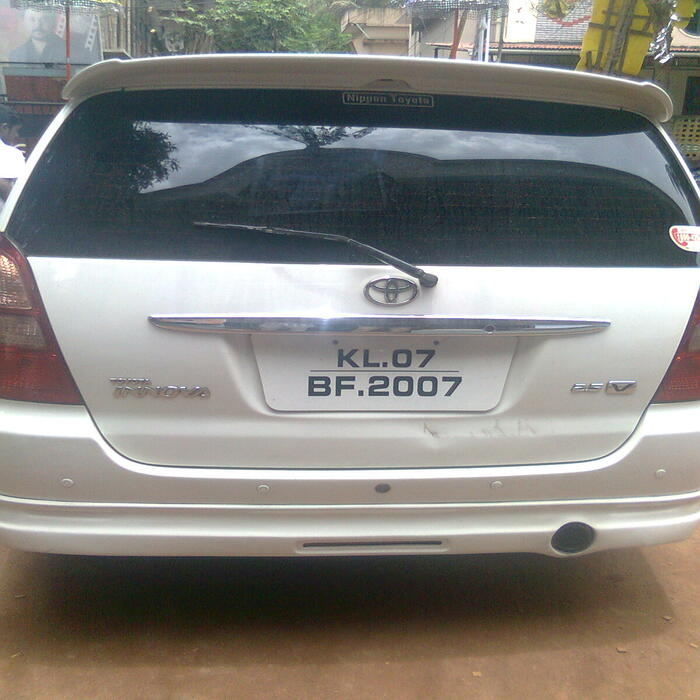n: (248, 329, 520, 418)
